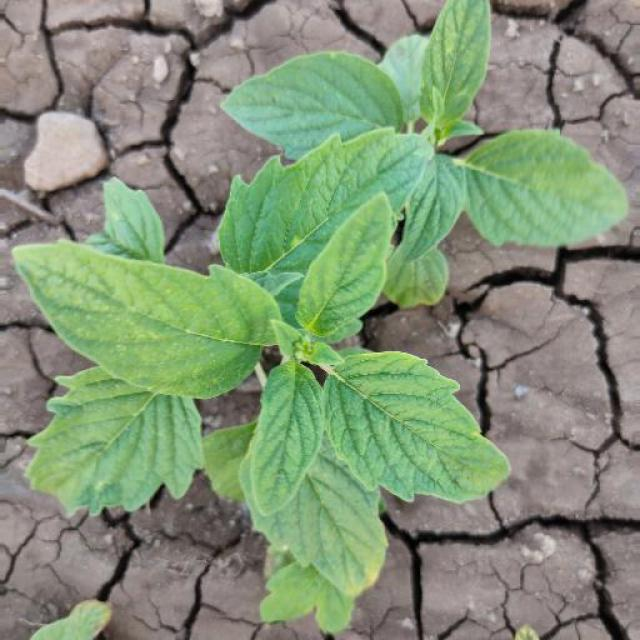crop: (31, 173, 539, 618), (198, 4, 632, 288)
